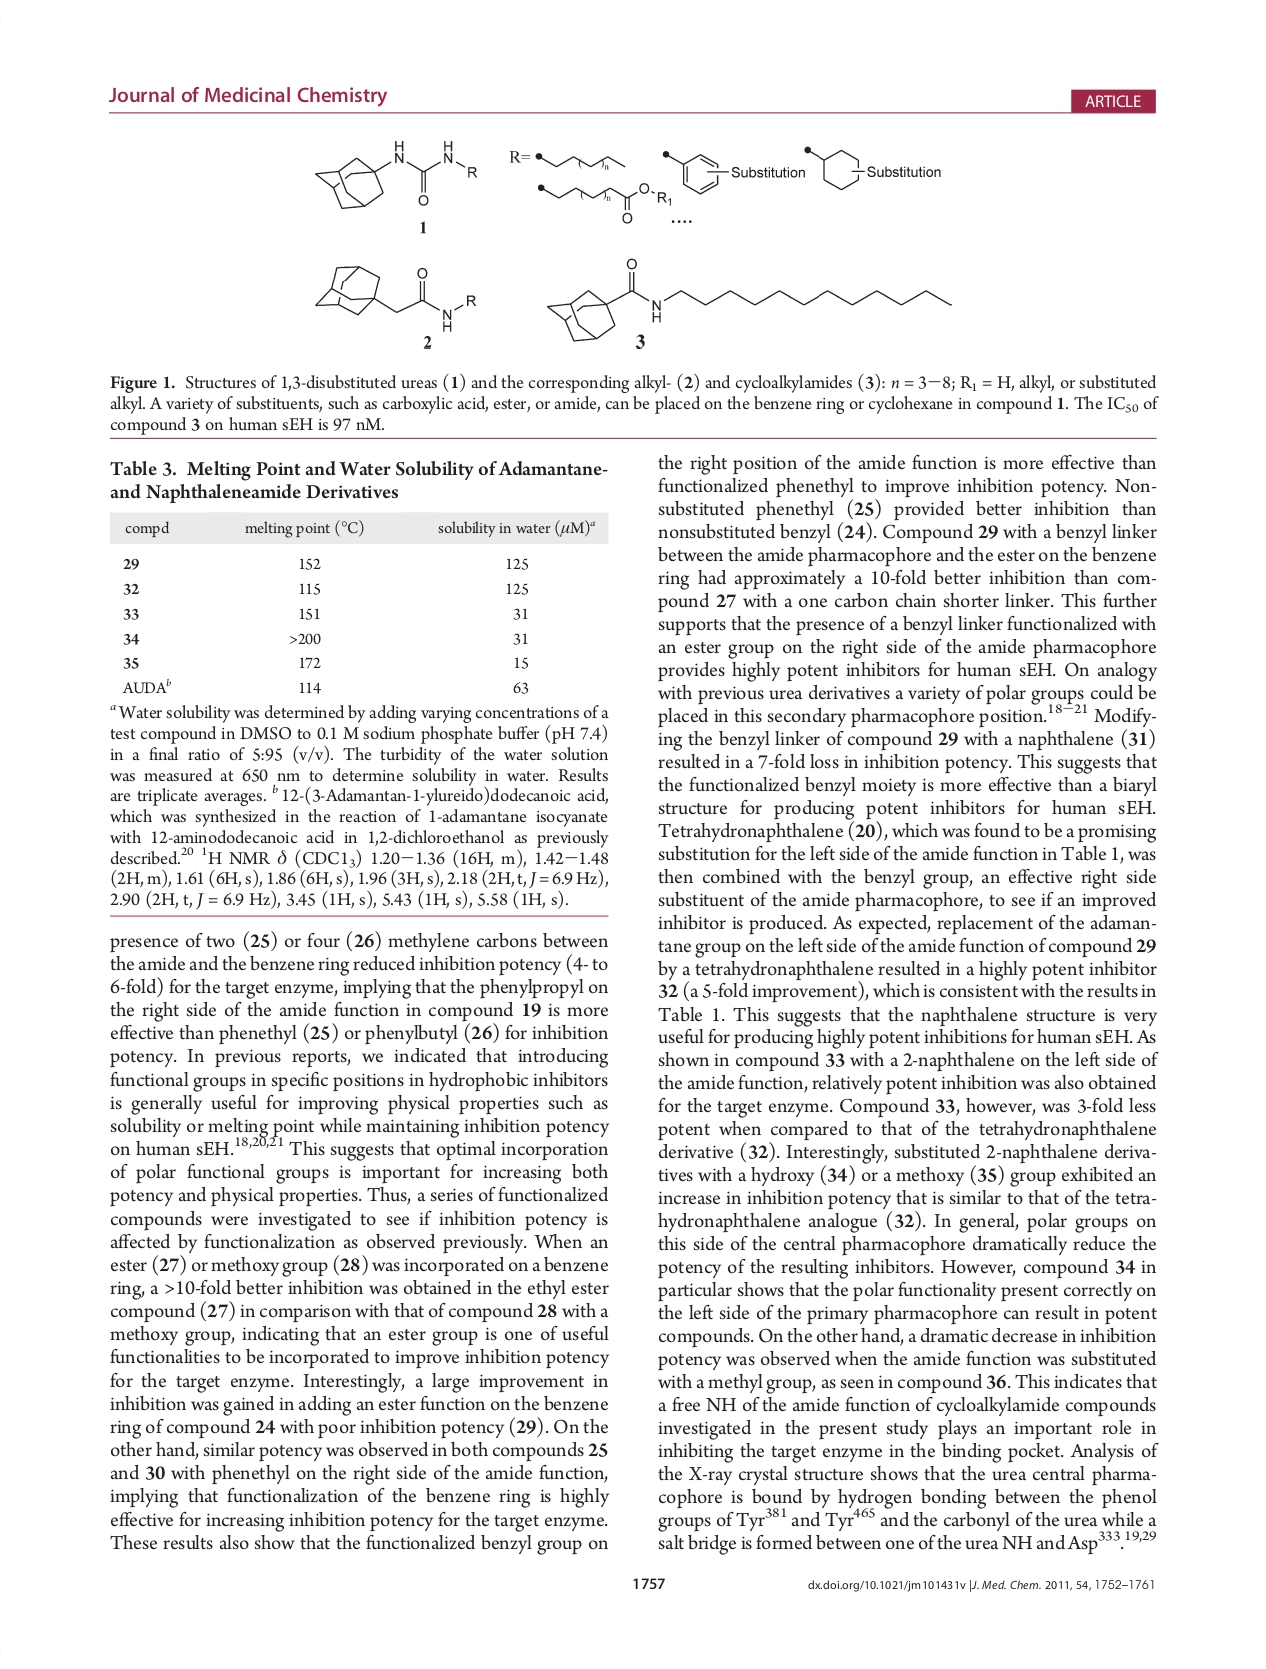exist_molecular: (543, 255, 953, 344), (310, 258, 480, 335), (313, 137, 481, 213), (658, 146, 807, 198), (803, 140, 944, 193), (529, 178, 676, 226), (531, 141, 629, 178)
